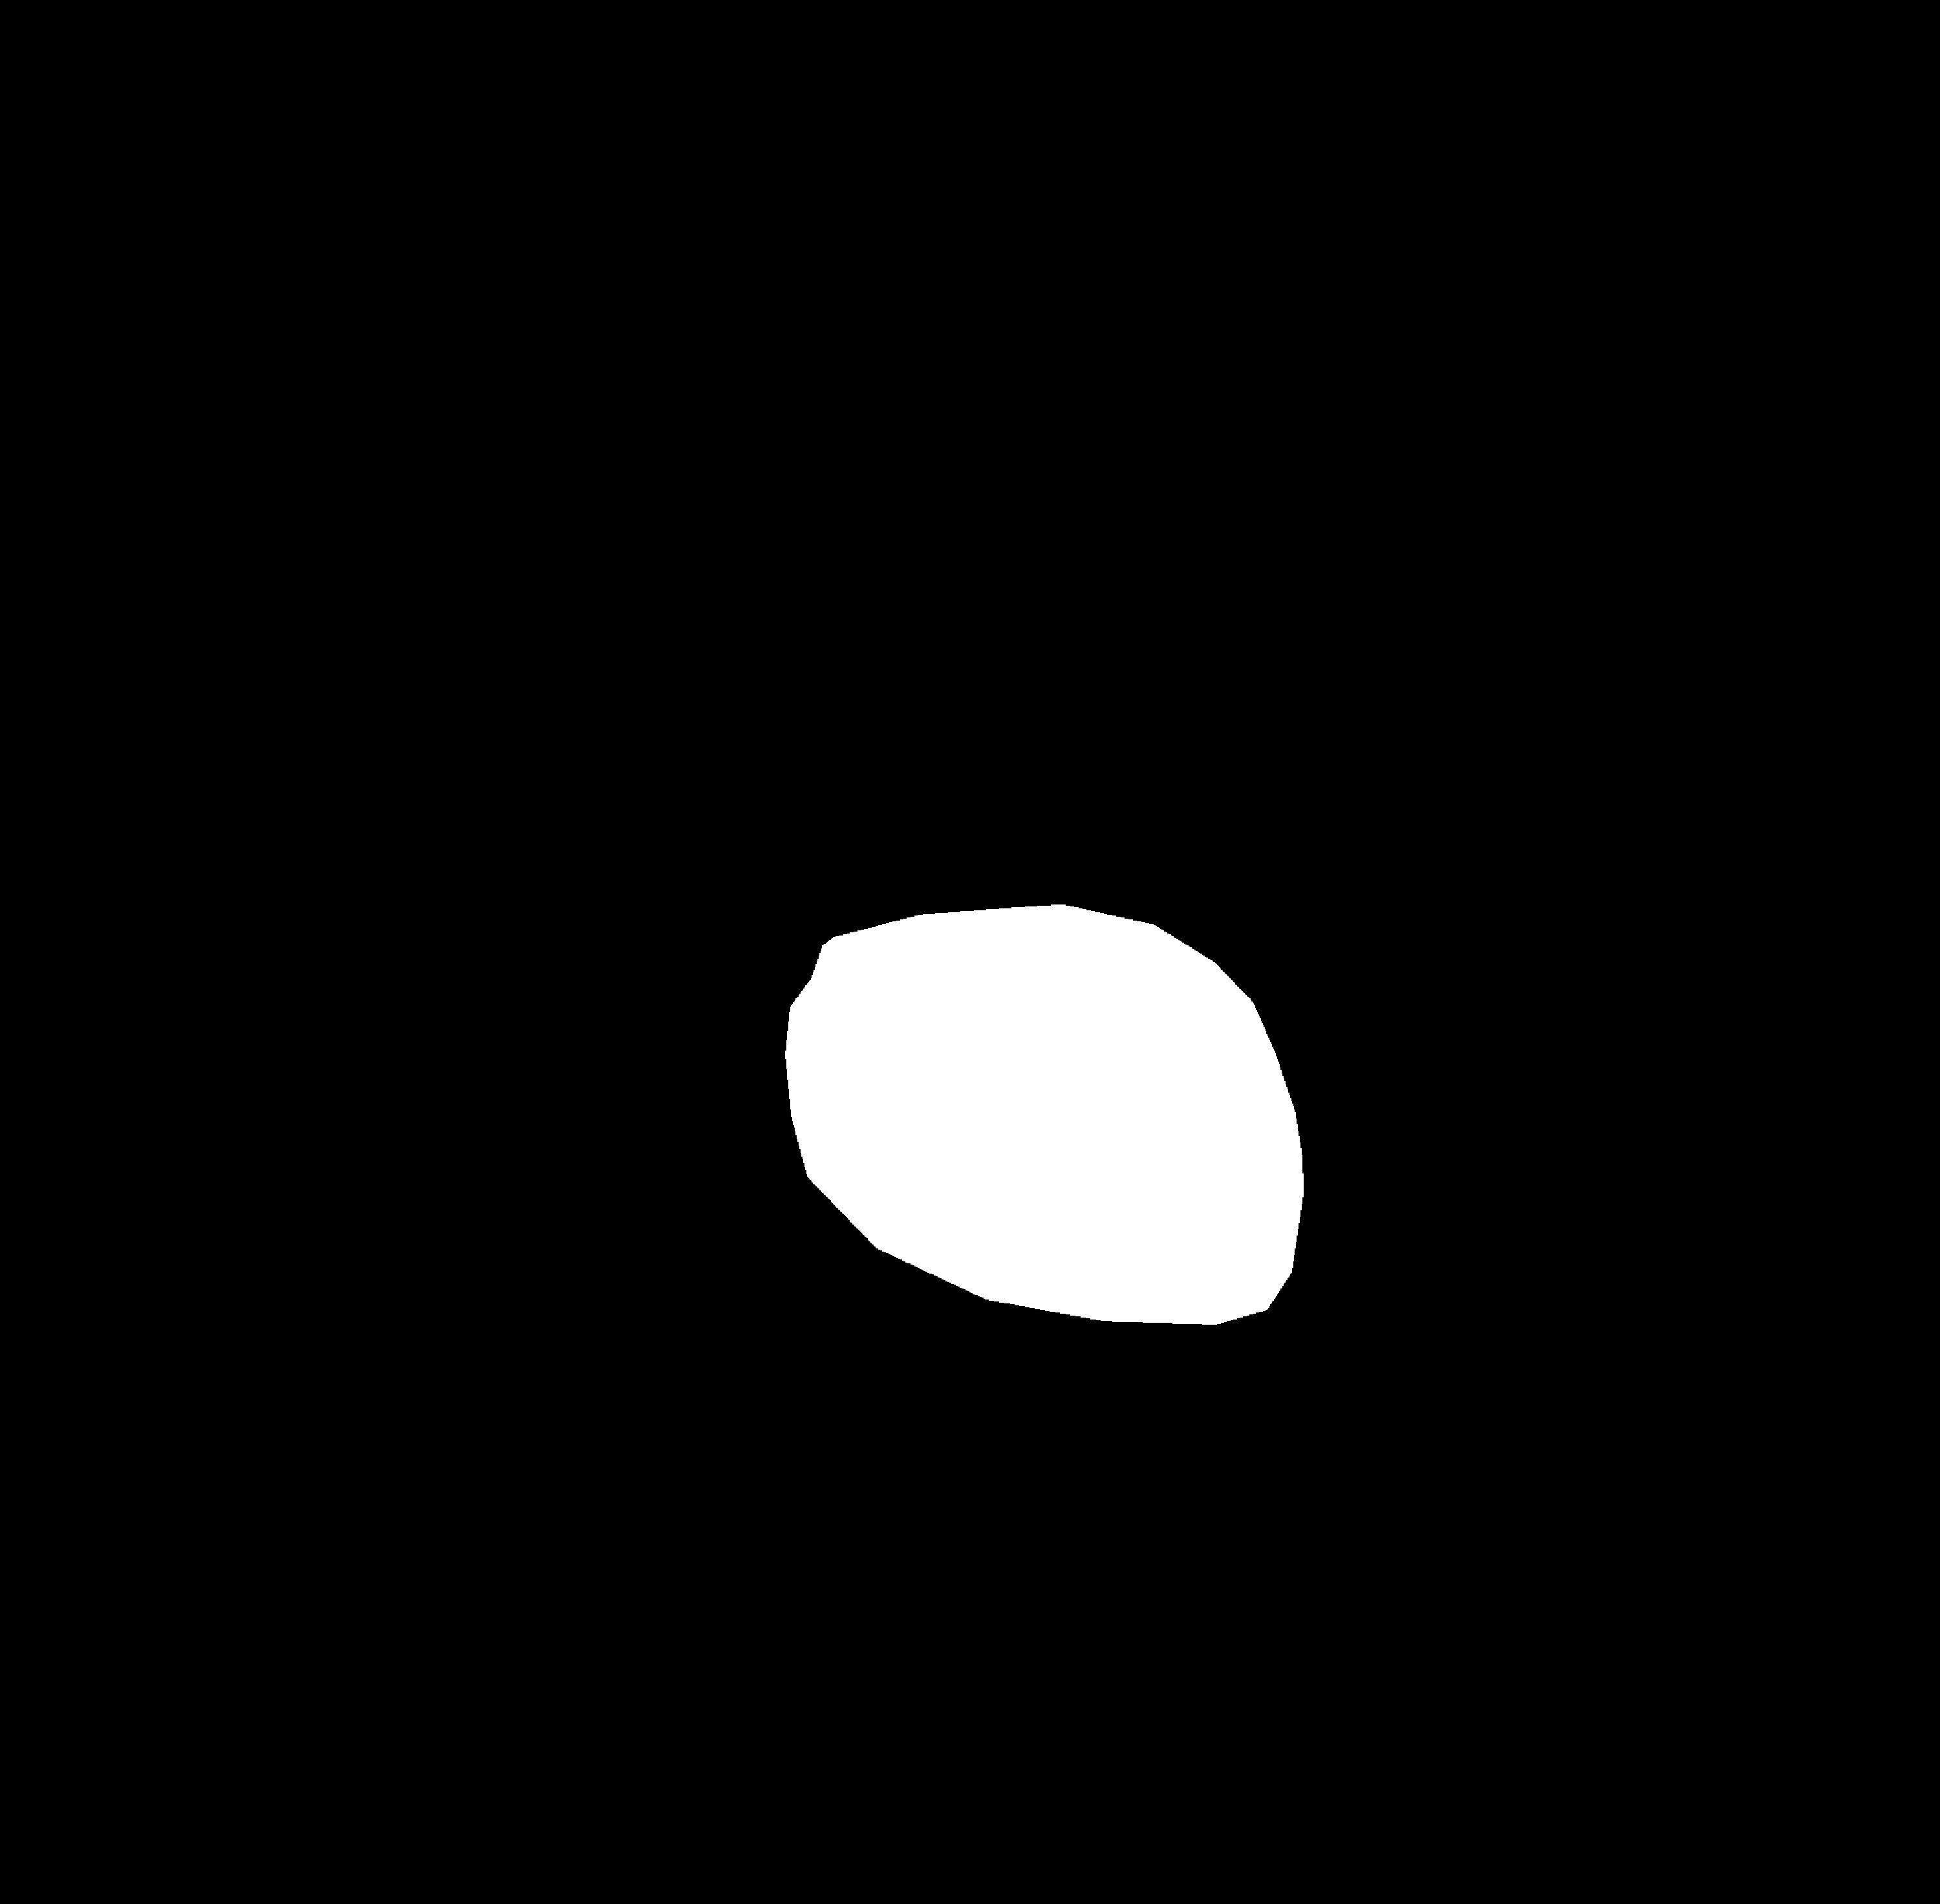heart: (785, 931, 1303, 1363)
left_lung: (321, 295, 888, 1479)
right_lung: (1017, 307, 1574, 1506)
